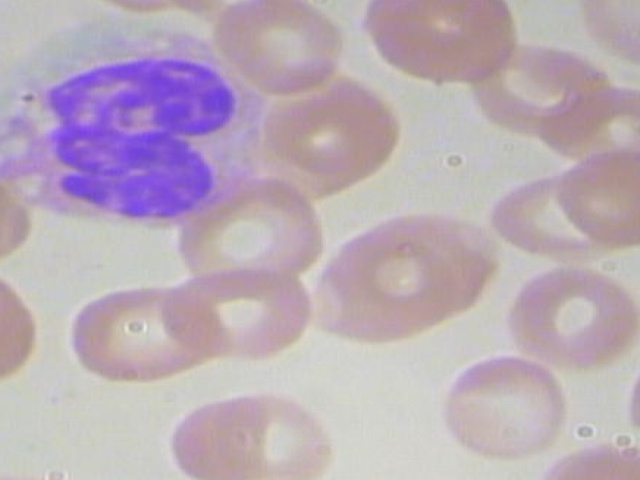RBC: (66, 269, 249, 388), (145, 176, 328, 295), (299, 233, 479, 351), (360, 0, 530, 92), (432, 355, 577, 458), (501, 261, 640, 364), (203, 0, 345, 98), (153, 388, 278, 480), (553, 146, 640, 244), (577, 0, 640, 69), (615, 330, 640, 433)
WBC: (0, 19, 282, 225)
